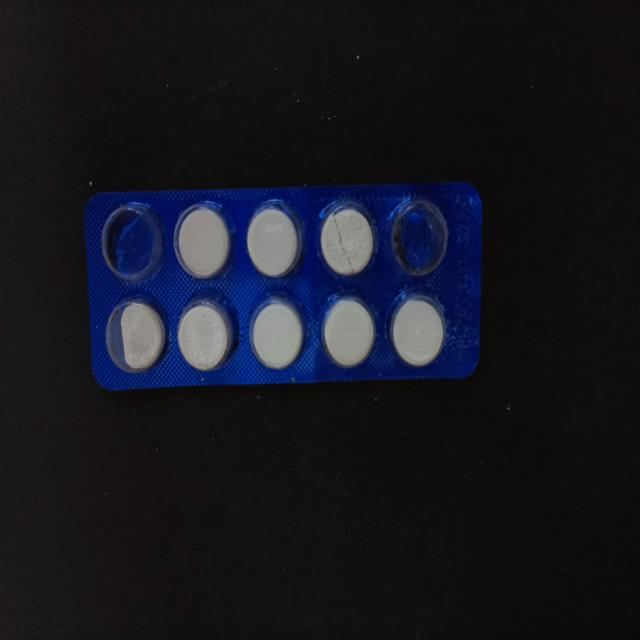defect: (98, 199, 166, 283), (102, 294, 169, 378), (386, 197, 451, 280), (316, 198, 379, 280)
